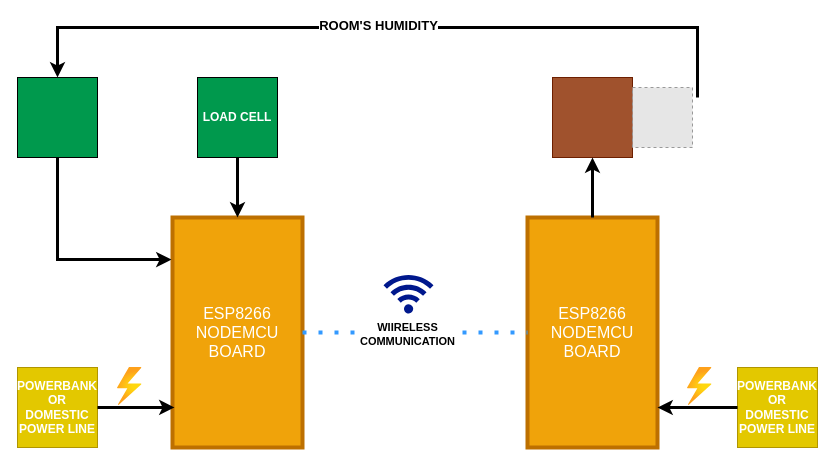
The diagram is 835 pixels wide and 467 high, and some of its shapes have lost their labels. Grey dashed boxes stand in for pictures. Each missing label, with the box of its shape:
HUMIDIFIER: (552, 76, 632, 158)
HUMIDITY SENSOR DHT11: (16, 76, 98, 158)
